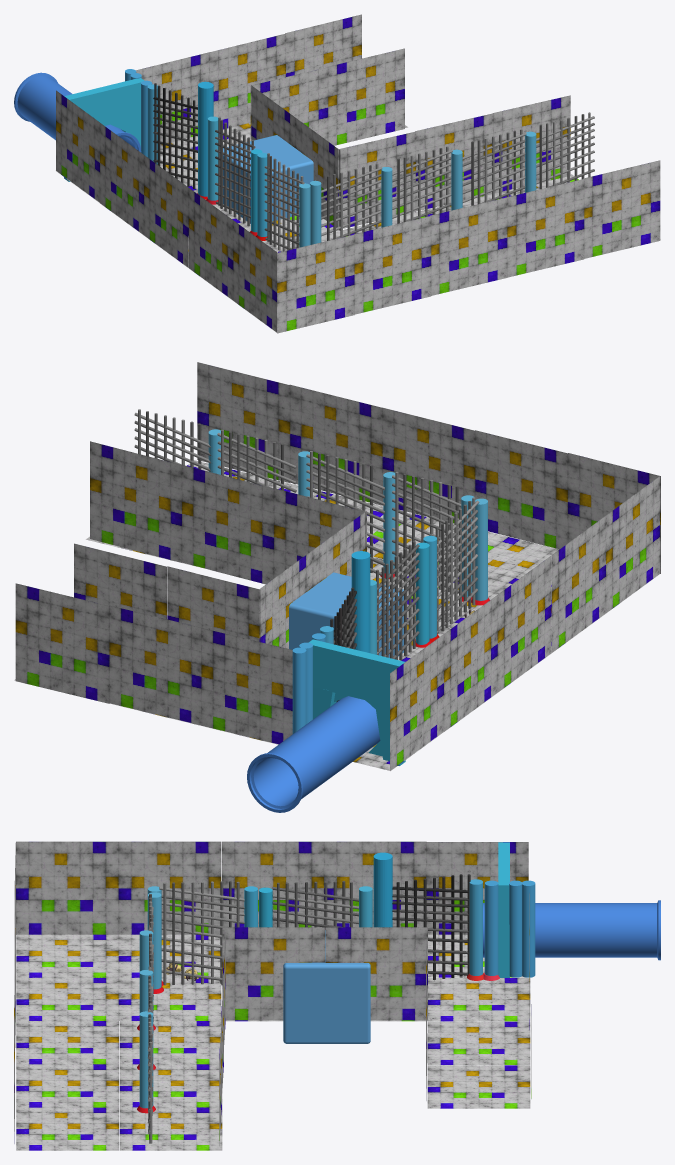
File: dogdaychase.fbx
3 renders of one model, top to bottom at view 1: azimuth 30°, elevation 25°; view 2: azimuth 150°, elevation 25°; view 3: azimuth 270°, elevation 25°, orthographic. The views are drawn at different scales.
Visible parts, largest first — view 1: Plano.008, Plano.018, Plano.033, Plano.034, Plano.032, Plano.024, Plano.026, Plano.035, Plano.036, Plano.037, Plano.007, Plano.006 (+29 smaller); view 2: Plano.025, Plano.026, Plano.037, Plano.035, Plano.027, Plano.018, Pipe, Plano.033, Plano.034, Plano.032, Plano.006, Plano.005 (+25 smaller); view 3: Plano.015, Plano.007, Cube, Plano.039, Pipe, Plano.038, Plano.006, Plano.005, Plano.004, Plano.014, Plano.013, Plano.016 (+25 smaller).
Boxes of the visible parts, x1,y1,x2,y2 form: Plano.008: [277, 234, 354, 333]; Plano.018: [354, 216, 431, 314]; Plano.033: [507, 179, 584, 277]; Plano.034: [583, 160, 660, 258]; Plano.032: [430, 197, 507, 295]; Plano.024: [327, 48, 404, 145]; Plano.026: [209, 33, 285, 129]; Plano.035: [415, 113, 493, 211]; Plano.036: [338, 131, 415, 228]; Plano.037: [493, 95, 570, 192]; Plano.007: [188, 188, 233, 300]; Plano.006: [144, 155, 188, 267]; Plano.025: [15, 583, 109, 703]; Plano.026: [109, 605, 201, 725]; Plano.037: [90, 441, 181, 562]; Plano.035: [182, 465, 273, 584]; Plano.027: [201, 628, 292, 744]; Plano.018: [475, 430, 567, 549]; Pipe: [247, 696, 380, 812]; Plano.033: [290, 384, 382, 505]; Plano.034: [197, 362, 290, 482]; Plano.032: [382, 408, 475, 523]; Plano.006: [497, 555, 551, 691]; Plano.005: [444, 595, 497, 731]; Plano.015: [16, 841, 118, 934]; Plano.007: [118, 841, 221, 934]; Cube: [283, 930, 370, 1043]; Plano.039: [222, 927, 324, 1020]; Pipe: [483, 900, 660, 960]; Plano.038: [325, 927, 427, 1020]; Plano.006: [222, 841, 324, 927]; Plano.005: [324, 841, 426, 927]; Plano.004: [426, 842, 528, 934]; Plano.014: [427, 1065, 530, 1108]; Plano.013: [427, 1021, 530, 1064]; Plano.016: [16, 934, 118, 977].
Bounding box in the file's own units: 5092 × 1638 × 6433.
